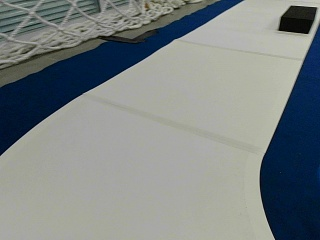block: (278, 5, 317, 32)
